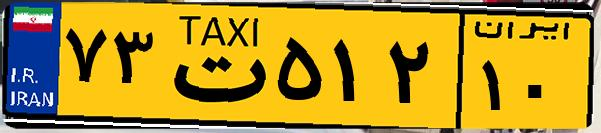0: (525, 38, 570, 115)
1: (330, 28, 385, 110), (475, 38, 525, 113)
2: (385, 28, 445, 110)
3: (110, 28, 158, 98)
5: (270, 28, 330, 110)
7: (57, 26, 110, 100)
ت: (158, 12, 270, 120)
